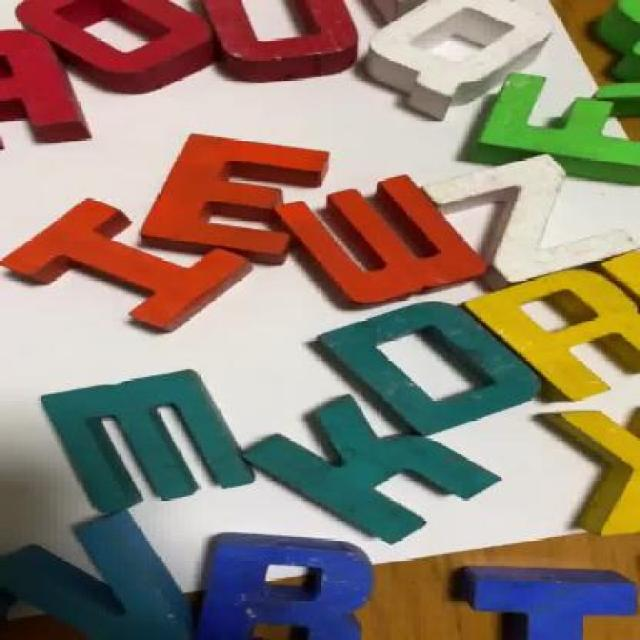D: (337, 303, 525, 435)
E: (140, 132, 334, 255)
I: (14, 200, 248, 340)
K: (262, 400, 486, 542)
M: (48, 373, 245, 501)
Q: (373, 0, 553, 115)
R: (479, 274, 639, 398)
W: (305, 179, 460, 315)
Z: (437, 152, 638, 274)
